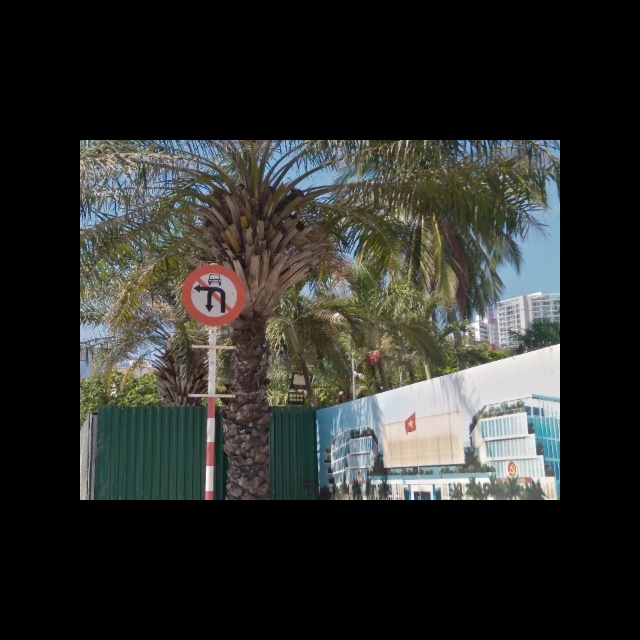Cấm xe ô tô quay đầu và rẽ trái: (179, 263, 249, 326)
